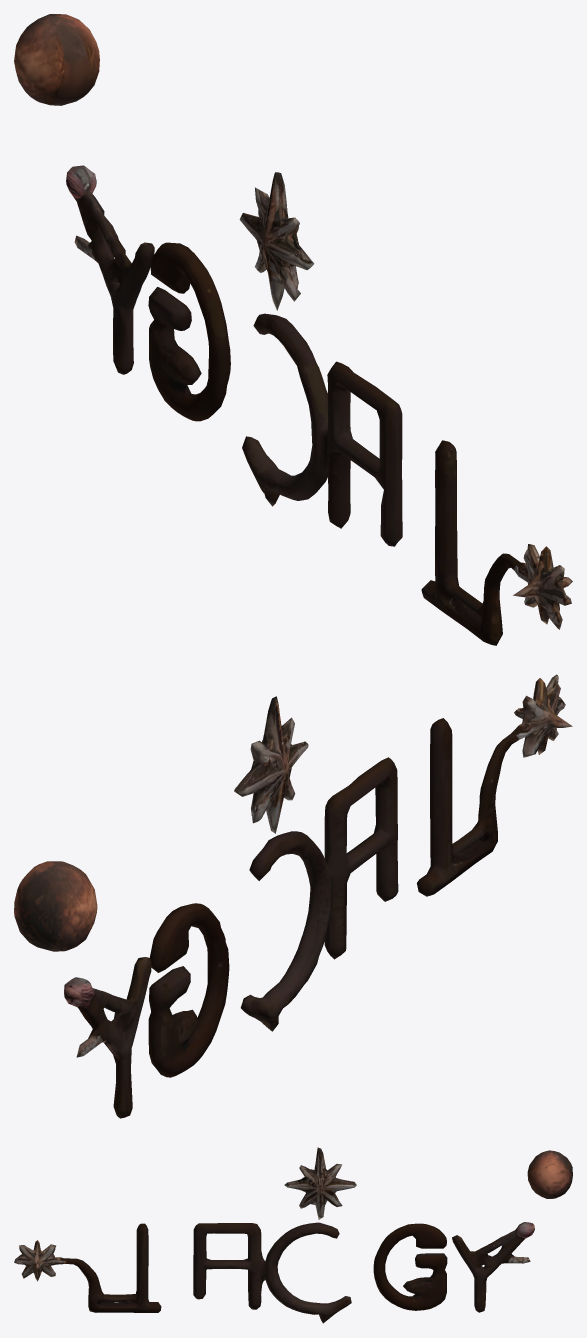
3 renders of one model, top to bottom at view 1: azimuth 30°, elevation 25°; view 2: azimuth 150°, elevation 25°; view 3: azimuth 270°, elevation 25°, orthographic. The views are drawn at different scales.
Visible parts, largest first — view 1: tripo_node_826b112a-c16e-47f7-a47c-858b0294e3a9; view 2: tripo_node_826b112a-c16e-47f7-a47c-858b0294e3a9; view 3: tripo_node_826b112a-c16e-47f7-a47c-858b0294e3a9.
Boxes of the visible parts, x1,y1,x2,y2 form: tripo_node_826b112a-c16e-47f7-a47c-858b0294e3a9: (14,14,572,645); tripo_node_826b112a-c16e-47f7-a47c-858b0294e3a9: (14,674,572,1118); tripo_node_826b112a-c16e-47f7-a47c-858b0294e3a9: (14,1147,572,1323).
Size of the model in its own units: 0.0807 by 0.3483 by 0.9999.
Materials: 1 (1 with a texture image).
